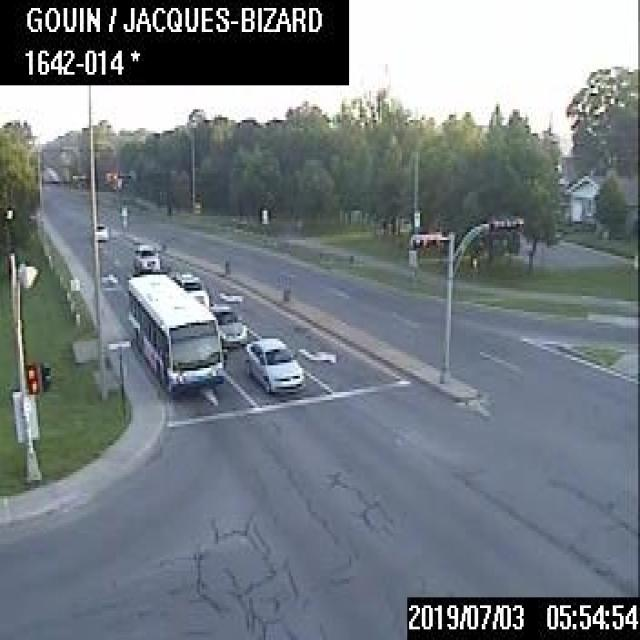bus: (126, 272, 226, 396)
vehicle: (243, 335, 304, 393), (207, 304, 246, 346), (170, 271, 208, 308), (131, 241, 158, 272), (95, 222, 106, 239)
